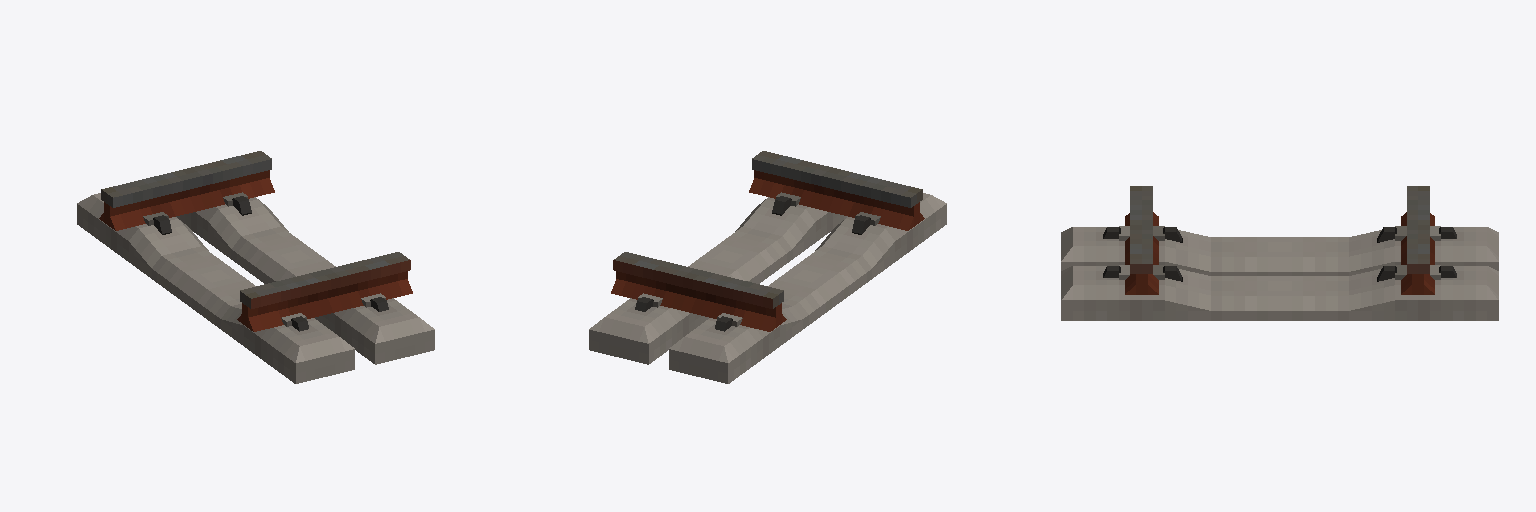
3 views of the same model, side by side, from view 1: azimuth 30°, elevation 25°; view 2: azimuth 150°, elevation 25°; view 3: azimuth 270°, elevation 25° (orthographic).
Parts seen in each view (by area): view 1: RAIL_Base.001_Plane.001, RAIL_Base_Plane, RAIL_LEFT_Cube_Cube.002, RAIL_RIGHT_Cube_Cube.003; view 2: RAIL_Base.001_Plane.001, RAIL_Base_Plane, RAIL_RIGHT_Cube_Cube.003, RAIL_LEFT_Cube_Cube.002; view 3: RAIL_Base_Plane, RAIL_Base.001_Plane.001, RAIL_LEFT_Cube_Cube.002, RAIL_RIGHT_Cube_Cube.003.
Boxes of the visible parts, <box> form: RAIL_Base.001_Plane.001: <box>77,193,354,383</box>; RAIL_Base_Plane: <box>176,192,434,364</box>; RAIL_LEFT_Cube_Cube.002: <box>237,252,412,331</box>; RAIL_RIGHT_Cube_Cube.003: <box>99,151,274,230</box>; RAIL_Base.001_Plane.001: <box>669,193,946,383</box>; RAIL_Base_Plane: <box>589,192,847,364</box>; RAIL_RIGHT_Cube_Cube.003: <box>611,252,786,331</box>; RAIL_LEFT_Cube_Cube.002: <box>749,151,924,230</box>; RAIL_Base_Plane: <box>1061,265,1498,320</box>; RAIL_Base.001_Plane.001: <box>1061,226,1498,275</box>; RAIL_LEFT_Cube_Cube.002: <box>1125,186,1158,294</box>; RAIL_RIGHT_Cube_Cube.003: <box>1401,186,1434,294</box>.
Bounding box in the file's own units: 1 × 0.375 × 2.38.
Materials: 2 (2 with a texture image).